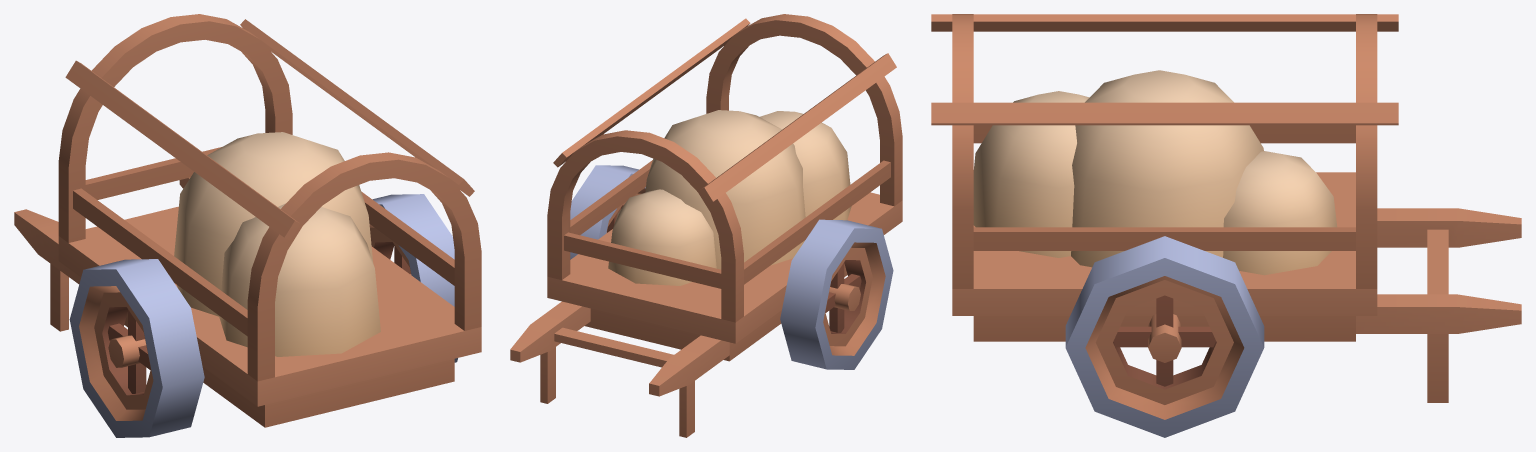
The model's file is town_cart_high.glb.
The picture shows the model from 3 angles, left to right: view 1: azimuth 30°, elevation 25°; view 2: azimuth 150°, elevation 25°; view 3: azimuth 270°, elevation 25°; orthographic projection. The views are drawn at different scales.
Parts seen in each view (by area): view 1: cart-high, Group, Group.001; view 2: cart-high, Group, Group.001; view 3: cart-high, Group.001.
Boxes of the visible parts, x1,y1,x2,y2 form: cart-high: (14,14,481,427); Group: (69,259,204,437); Group.001: (369,194,457,362); cart-high: (510,14,902,437); Group: (780,219,893,369); Group.001: (570,165,645,259); cart-high: (931,14,1521,402); Group.001: (1065,236,1264,437).
Bounding box in the file's own units: 2.14 × 2.07 × 3.34.
1 material, 1 textured.
